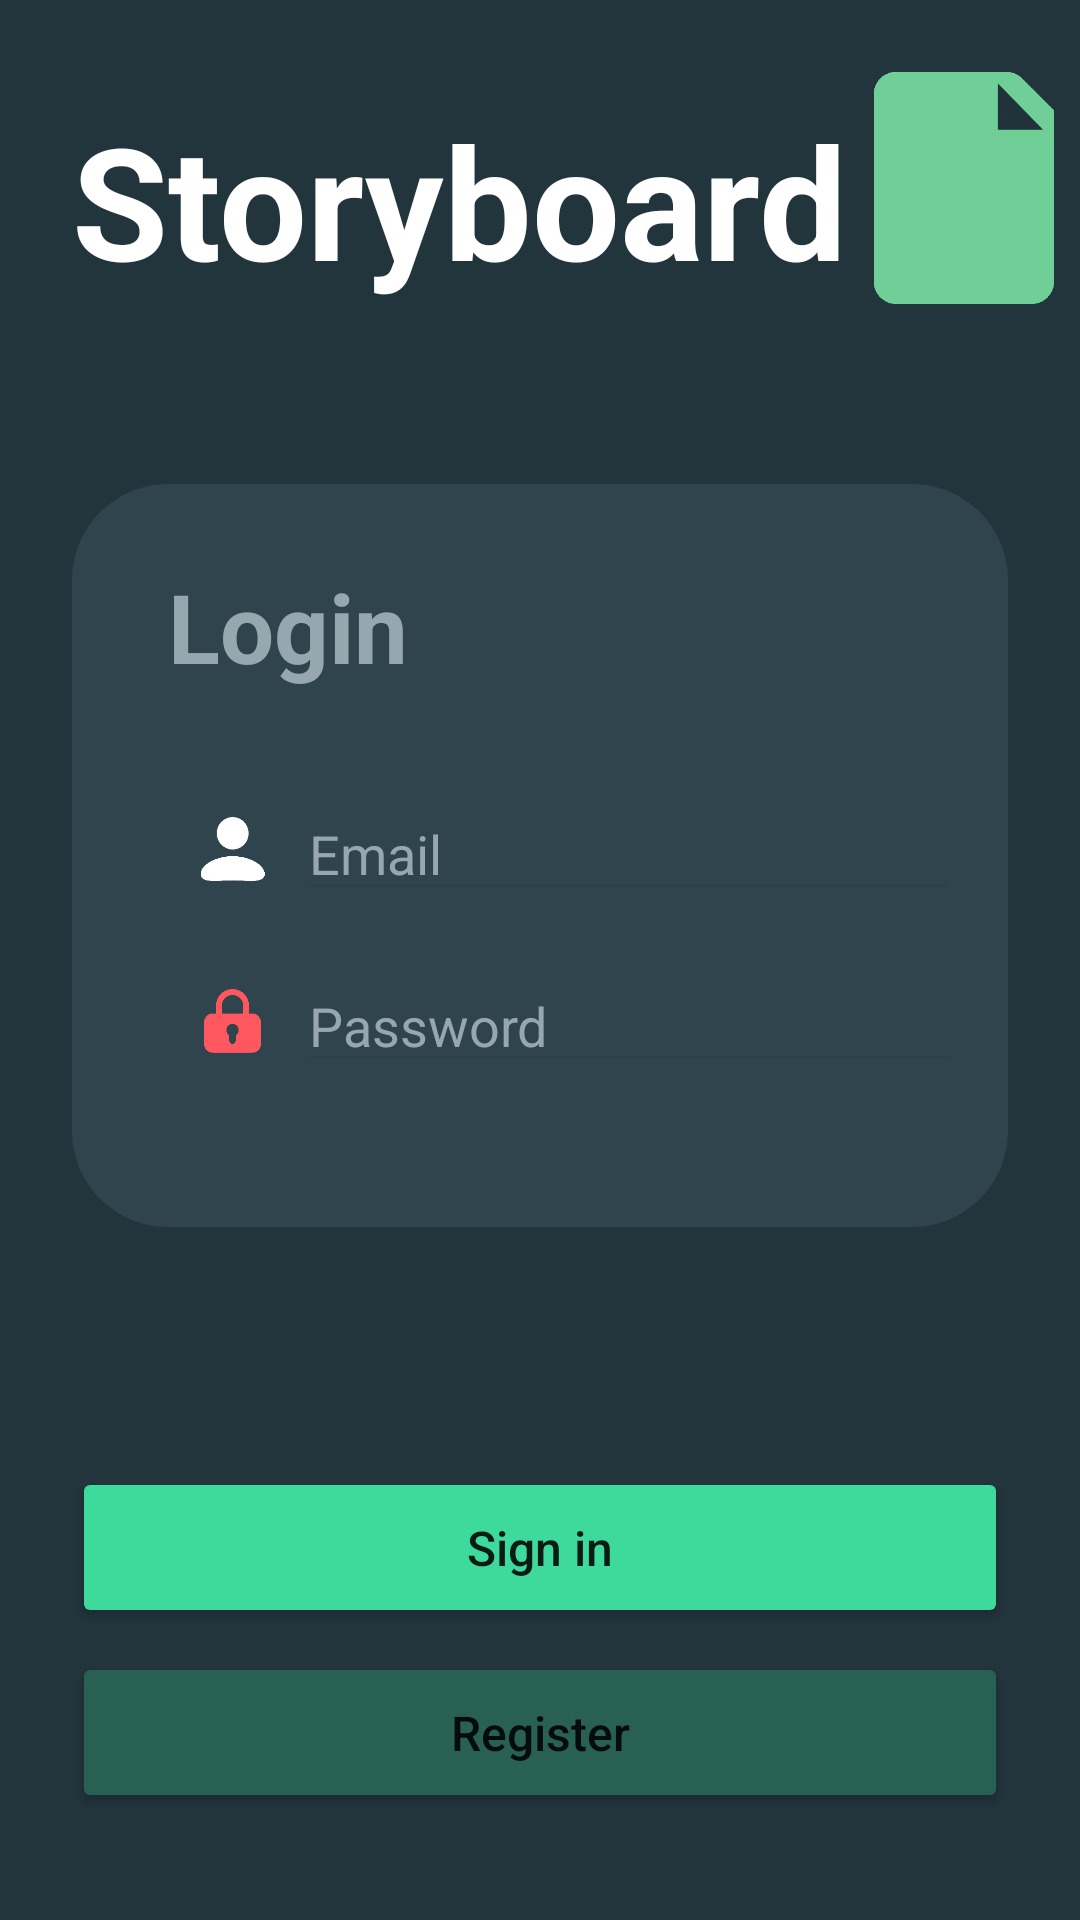

Locate icon controls on the screen. Image size 1080 x 1920, boxes as box(x1, y1, x2, y2).
lock: box(204, 989, 261, 1053)
person: box(201, 817, 265, 881)
